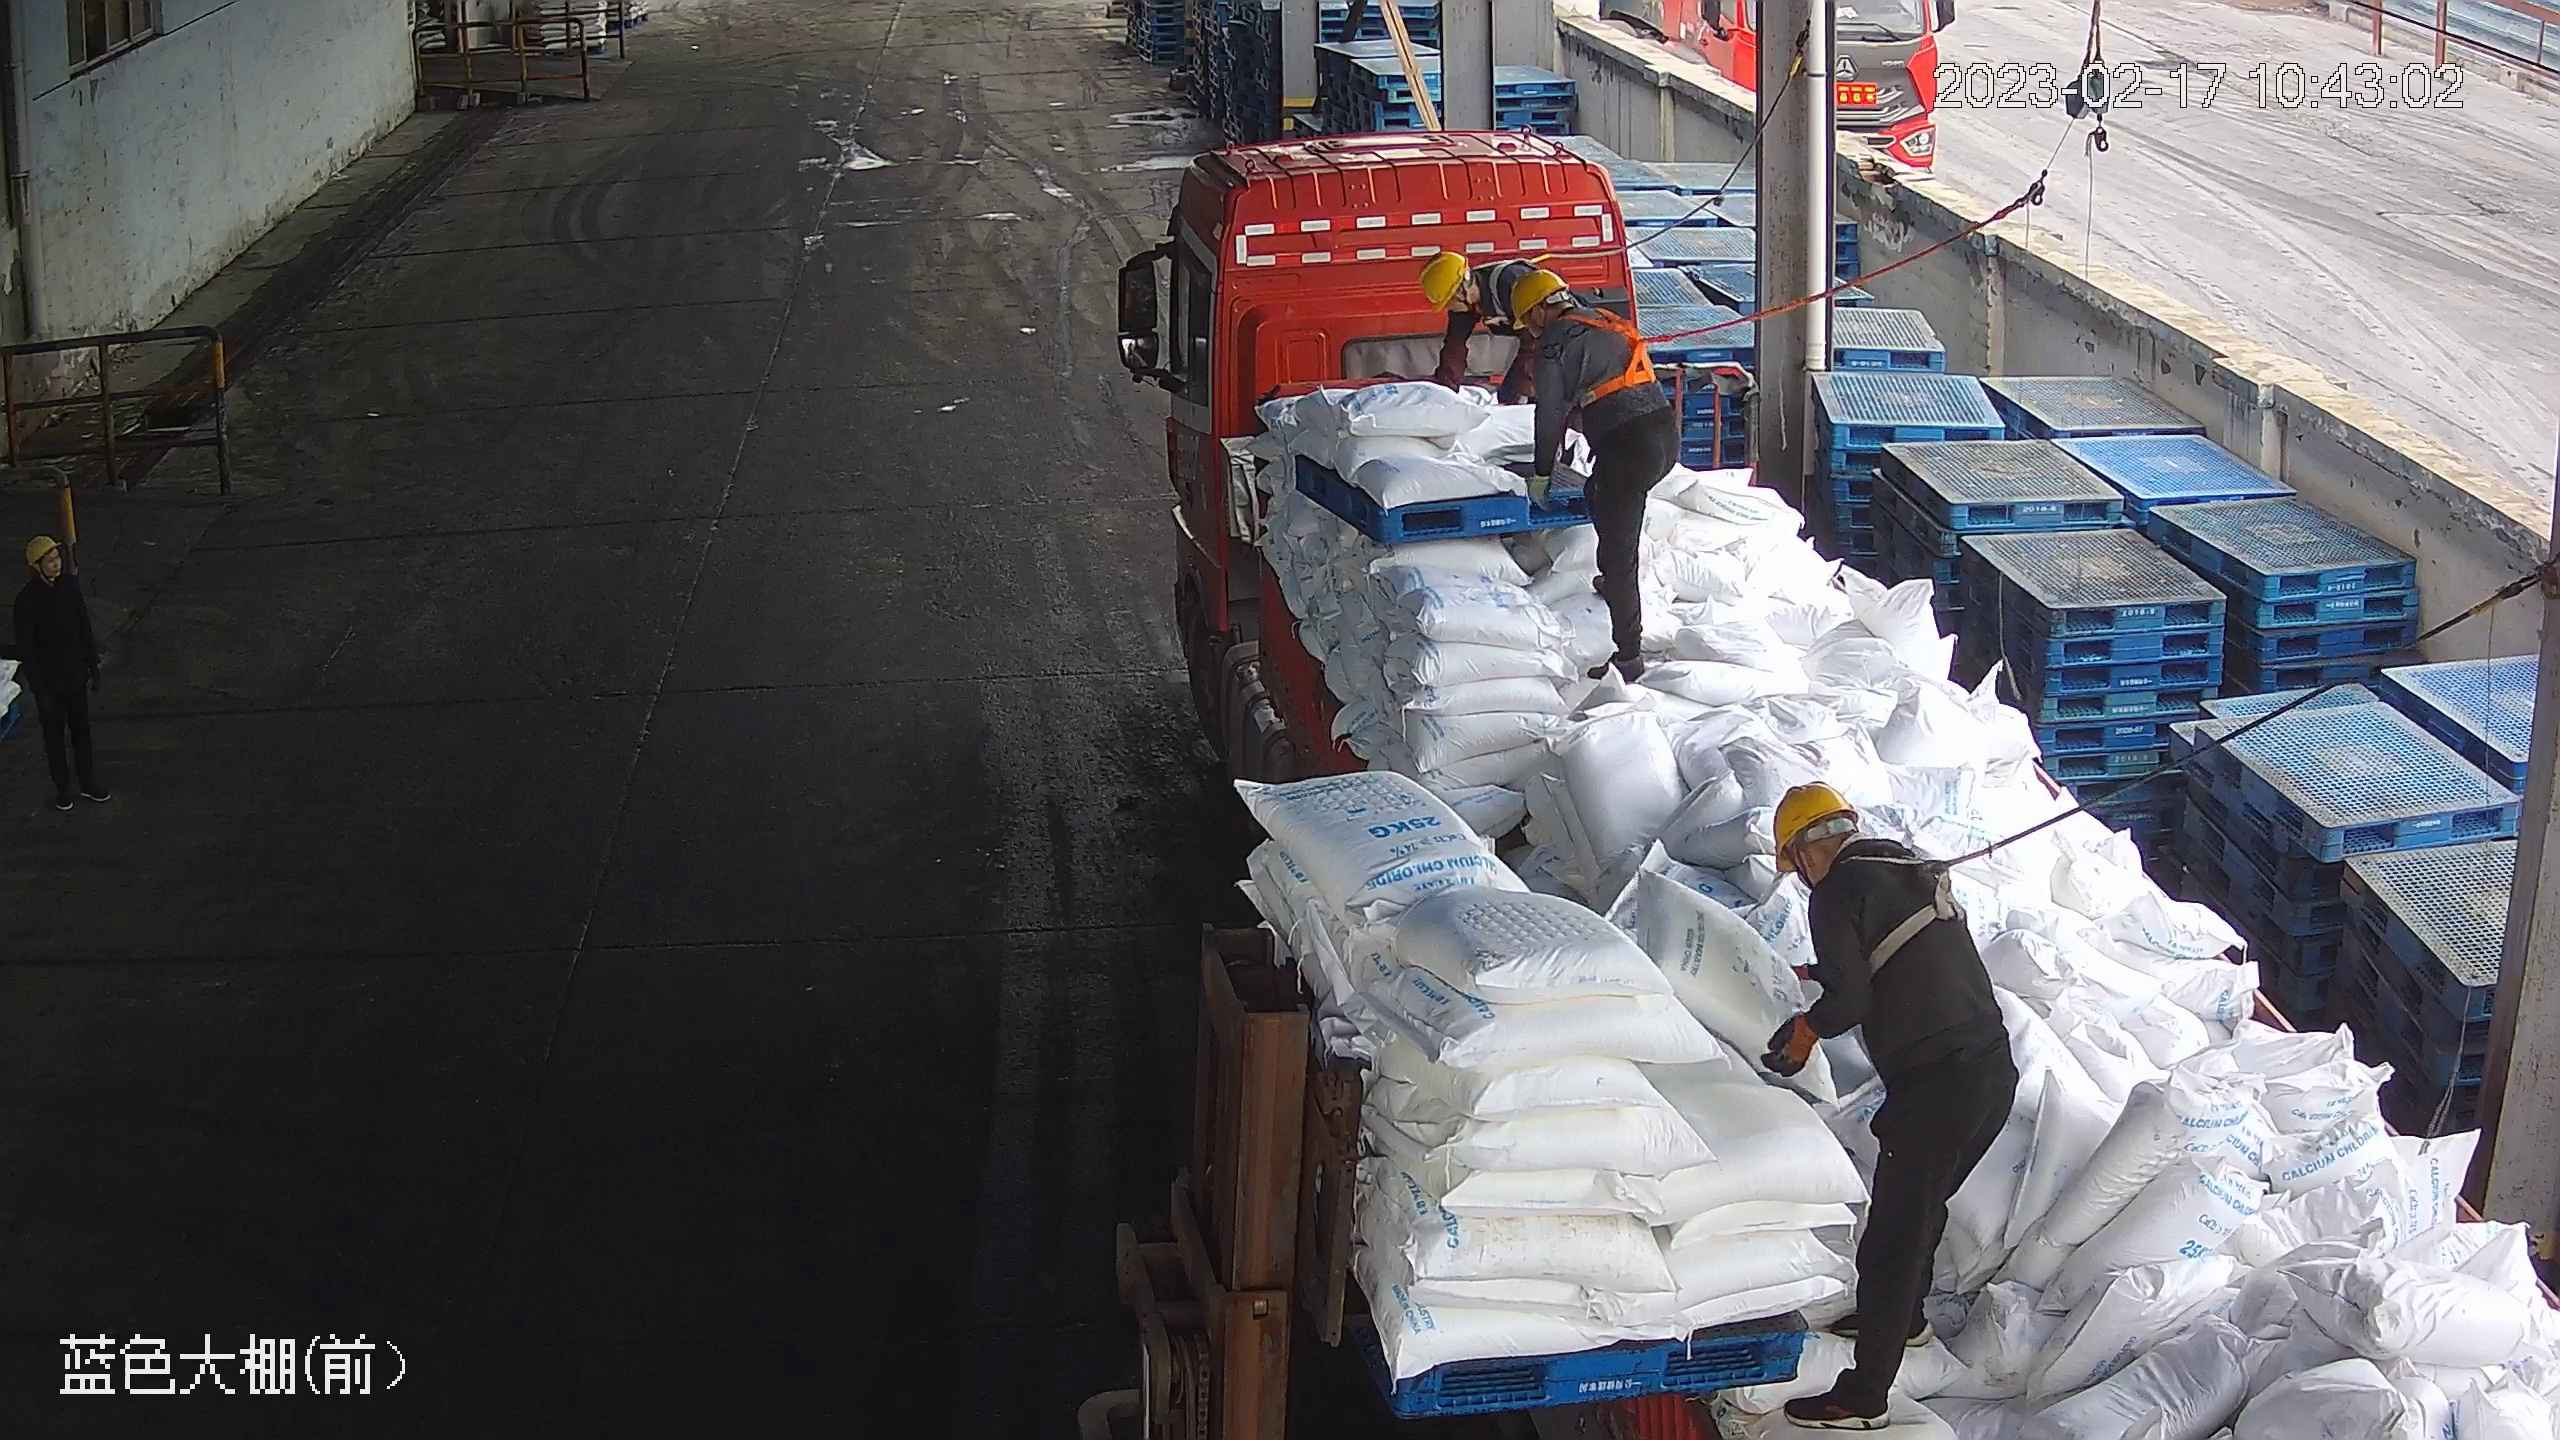belt: (1769, 785, 1958, 936), (1843, 839, 1982, 972), (1559, 300, 1668, 403), (1469, 249, 1562, 314)
head: (1762, 783, 1946, 928), (1507, 267, 1636, 363), (1418, 247, 1519, 330), (11, 533, 91, 617)
helmet: (1766, 777, 1858, 862), (1506, 263, 1566, 323), (1419, 249, 1470, 311), (23, 534, 61, 566)
people: (1751, 775, 2022, 1426), (1499, 259, 1677, 690), (7, 531, 113, 811)
truck: (1138, 118, 2542, 1440)
